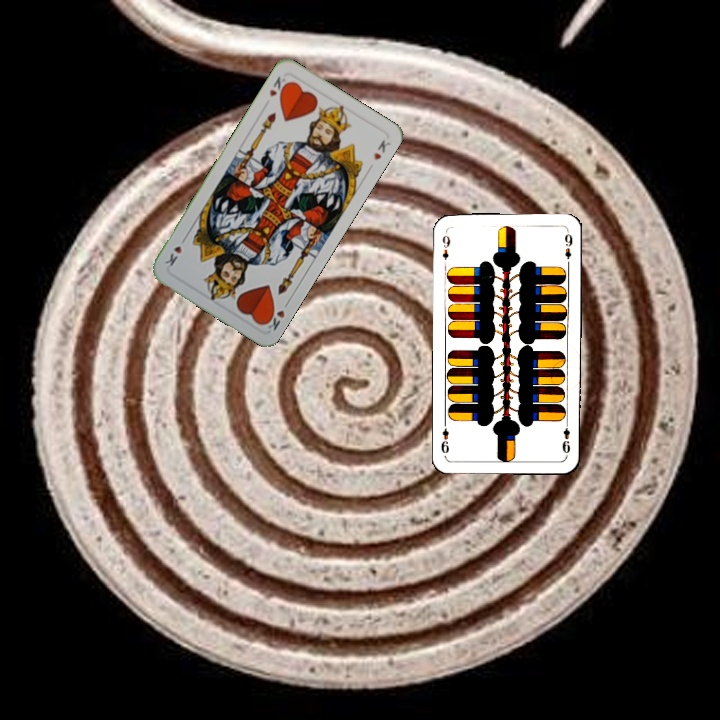E9: (558, 417, 573, 458), (439, 228, 452, 269)
HK: (260, 297, 292, 333), (265, 72, 291, 101)
